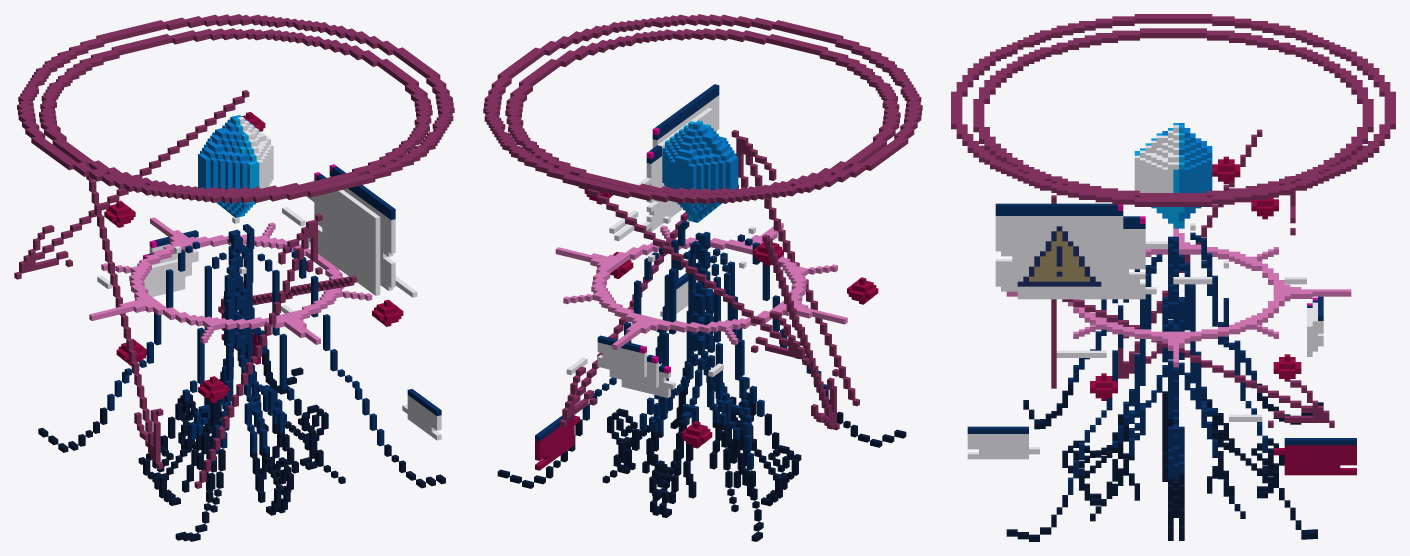
File: enemy5.obj
3 views of the same model, side by side, from view 1: azimuth 30°, elevation 25°; view 2: azimuth 150°, elevation 25°; view 3: azimuth 270°, elevation 25° (orthographic). The views are drawn at different scales.
Bounding box in the file's own units: 8 × 7.8 × 8.
1 material, 1 textured.
